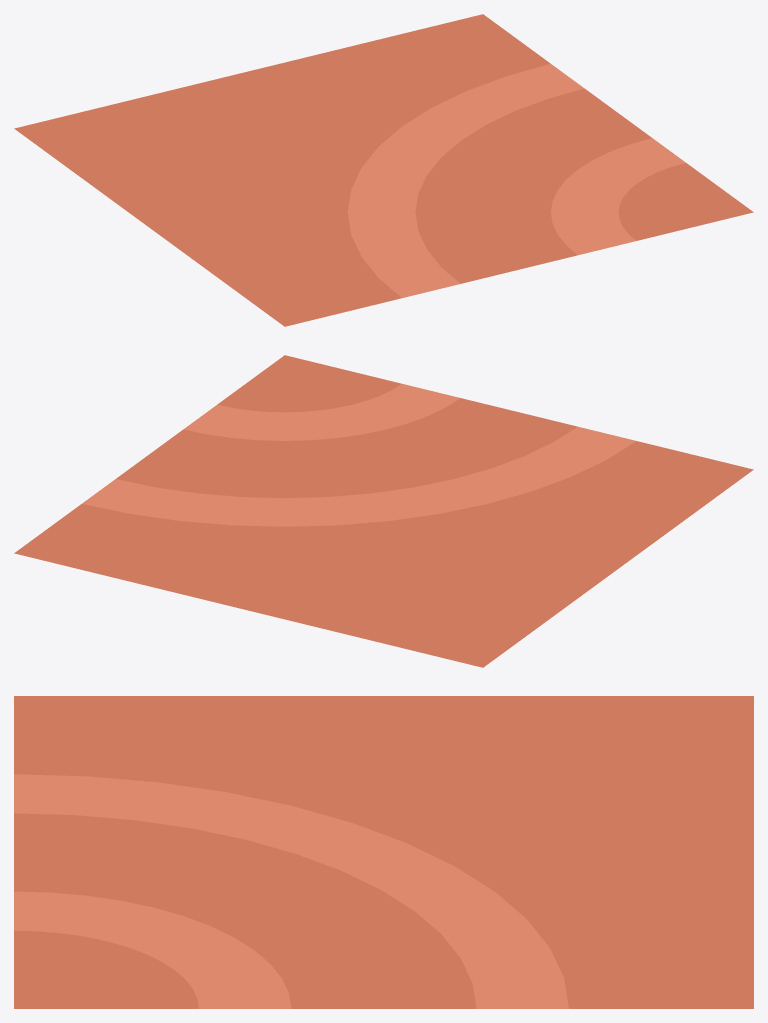
The model's file is terrain_roadCorner.glb.
3 views of the same model, one above another, from view 1: azimuth 30°, elevation 25°; view 2: azimuth 150°, elevation 25°; view 3: azimuth 270°, elevation 25° (orthographic). The views are drawn at different scales.
Parts seen in each view (by area): view 1: terrain_roadCorner; view 2: terrain_roadCorner; view 3: terrain_roadCorner.
Part boxes in pixels (x1,y1,x2,y2): terrain_roadCorner: (14, 14, 753, 326); terrain_roadCorner: (14, 355, 753, 667); terrain_roadCorner: (14, 696, 753, 1008).
Size of the model in its own units: 1 by 0 by 1.
